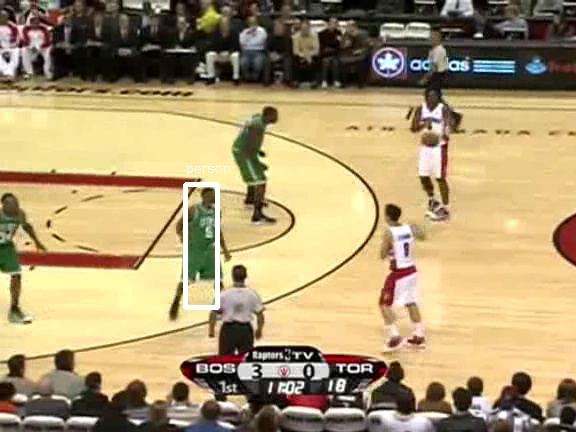person: (188, 206, 222, 287), (187, 206, 221, 287), (189, 206, 223, 287), (188, 205, 222, 286), (188, 207, 222, 288)
target_negative: (74, 175, 368, 405), (27, 317, 530, 355), (307, 179, 467, 215), (112, 73, 123, 228), (486, 359, 510, 409), (434, 9, 528, 15)
